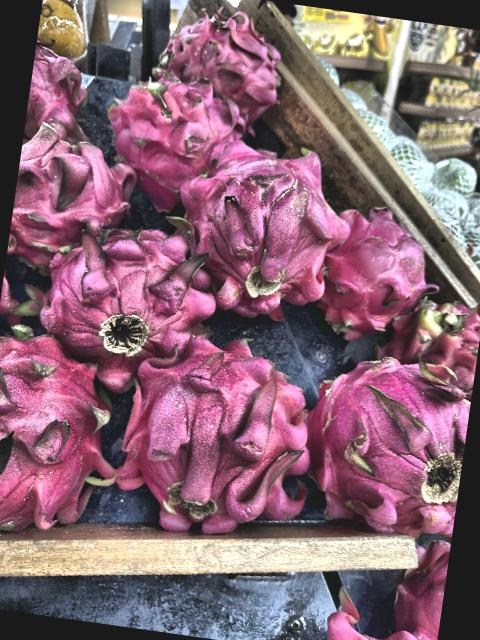buah-naga-belum-matang: (378, 288, 480, 384)
buah-naga-matang: (102, 333, 328, 546), (285, 342, 476, 540), (33, 214, 236, 392), (169, 135, 354, 321), (0, 318, 134, 556), (6, 114, 147, 278), (98, 70, 253, 219), (144, 3, 298, 129), (322, 200, 444, 345), (22, 36, 104, 153)
